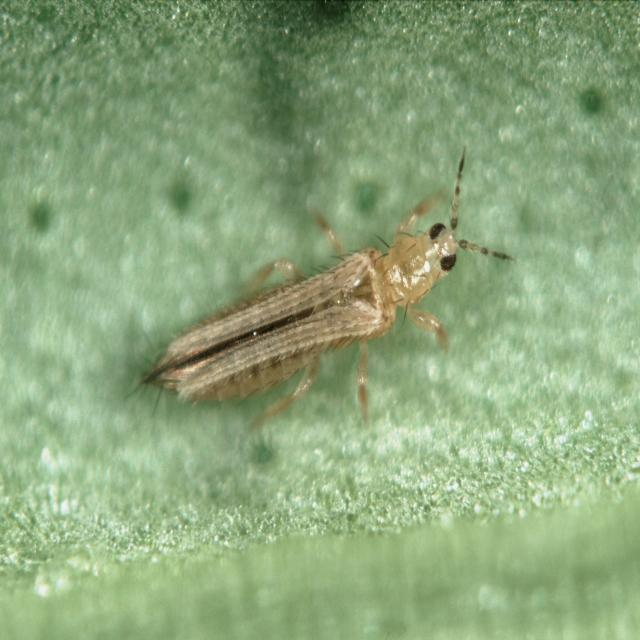Thrip-Adult-: (129, 135, 510, 434)
